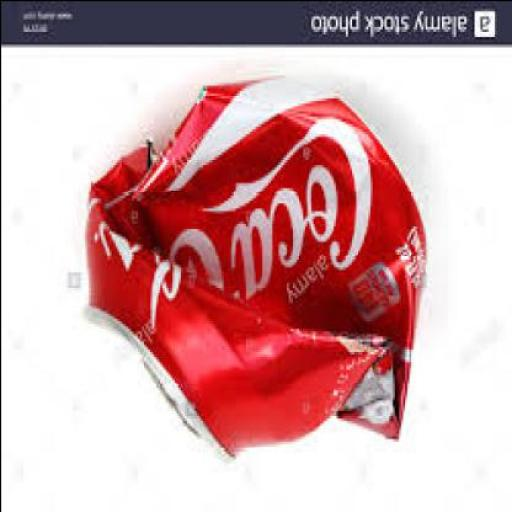metal: (88, 80, 428, 464)
